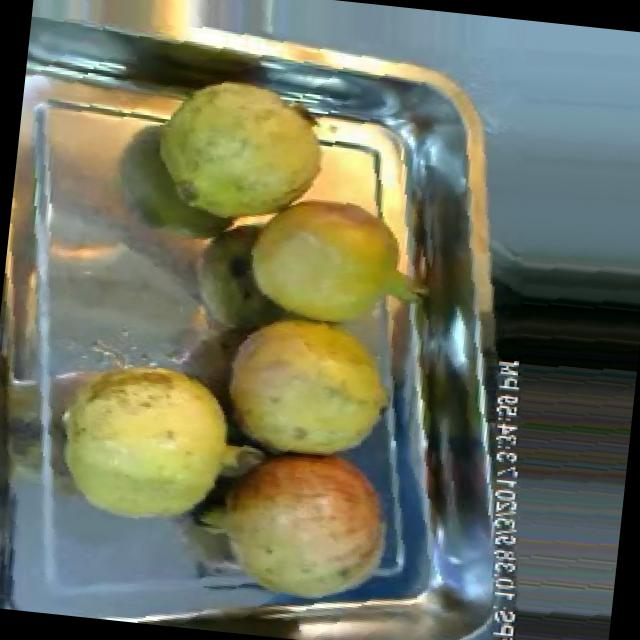fruit: (37, 340, 261, 542), (130, 59, 351, 249), (182, 432, 404, 618), (206, 296, 408, 474), (222, 170, 423, 346)
